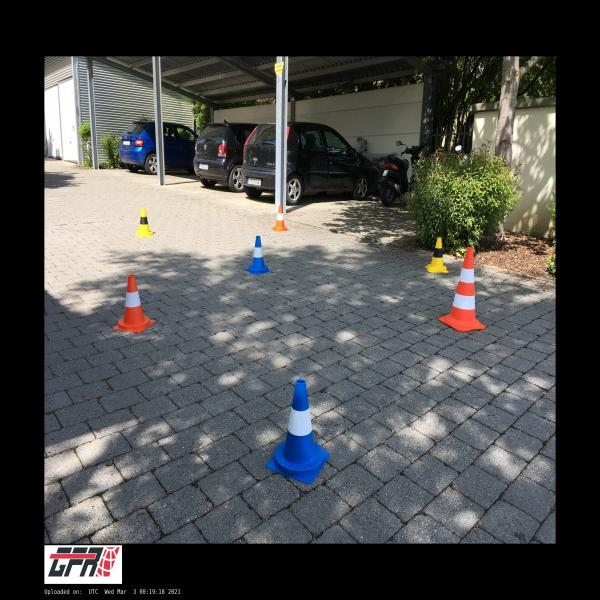blue_cone: (266, 379, 329, 484), (246, 235, 272, 274)
large_orange_cone: (439, 247, 485, 332)
orange_cone: (113, 275, 155, 332), (272, 206, 289, 231)
yellow_cone: (425, 238, 448, 272), (136, 208, 153, 236)
